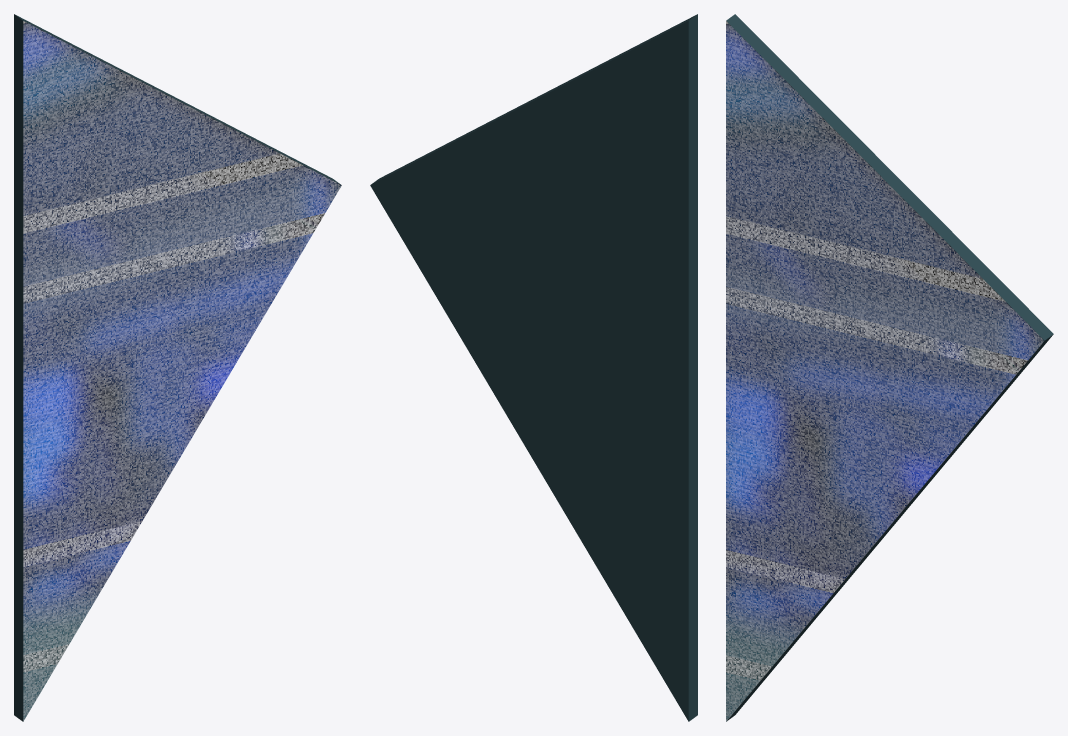
3 renders of one model, left to right at view 1: azimuth 30°, elevation 25°; view 2: azimuth 150°, elevation 25°; view 3: azimuth 330°, elevation 25°, orthographic.
Parts seen in each view (by area): view 1: Piece_01; view 2: Piece_01; view 3: Piece_01.
Part boxes in pixels (left/top/right/bottom): Piece_01: left=14, top=14, right=341, bottom=721; Piece_01: left=370, top=14, right=697, bottom=721; Piece_01: left=726, top=14, right=1053, bottom=721.
Bounding box in the file's own units: 0.5 × 1.05 × 0.025.
Materials: 2 (1 with a texture image).
